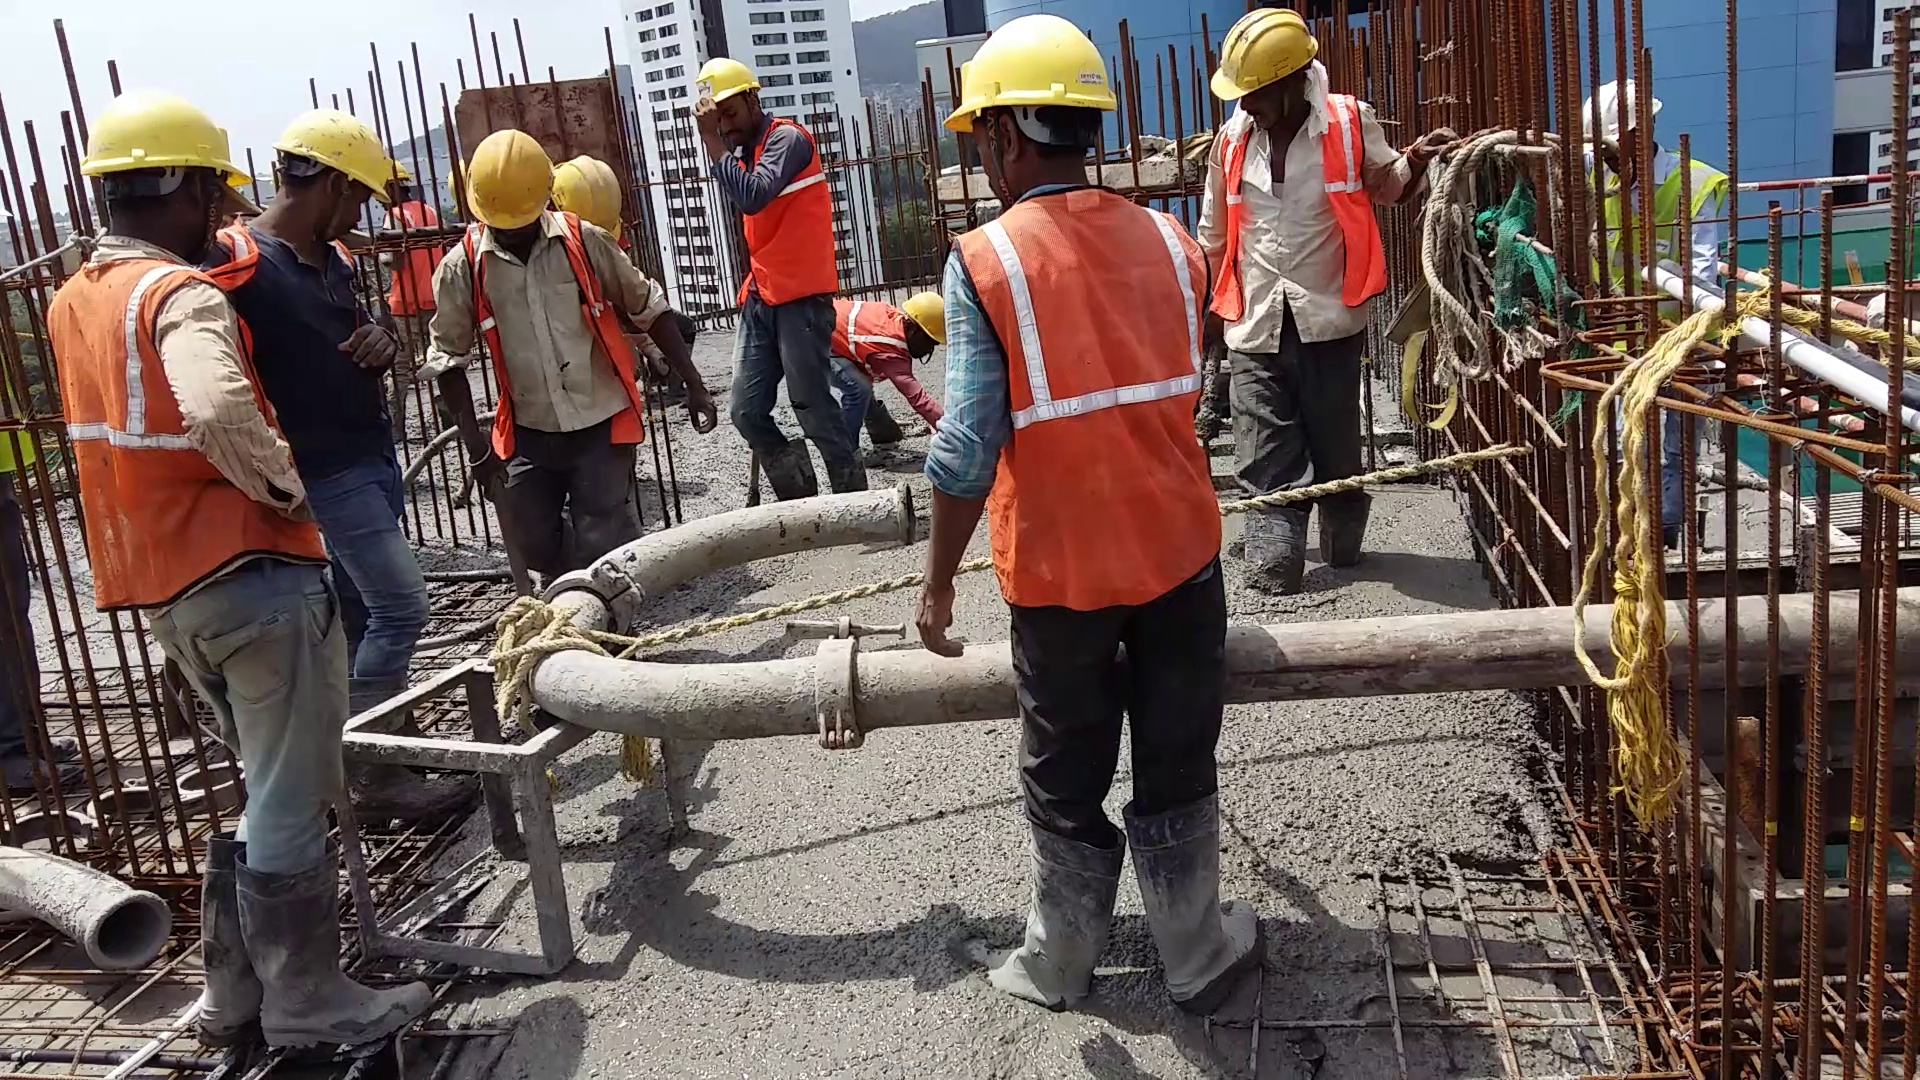NoJacket: (265, 102, 356, 456)
SAFE: (971, 18, 1205, 584), (65, 102, 253, 579), (465, 121, 622, 447), (1218, 1, 1360, 344), (691, 55, 829, 305)
